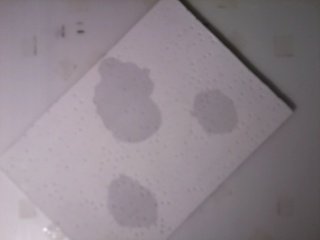Water_detected: (103, 75, 161, 135), (120, 180, 149, 214), (198, 100, 225, 132)
